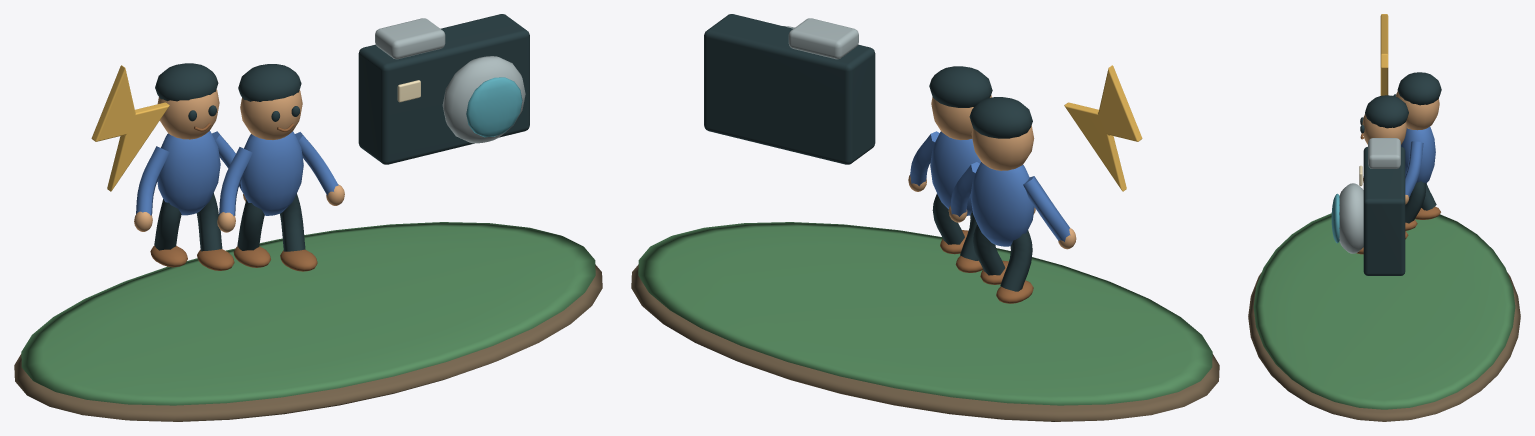
File: camera-light.glb
3 renders of one model, left to right at view 1: azimuth 30°, elevation 25°; view 2: azimuth 150°, elevation 25°; view 3: azimuth 270°, elevation 25°, orthographic. The views are drawn at different scales.
Visible parts, largest first — view 1: camera-light_surface_01, camera-light_surface_04, camera-light_surface_06, camera-light_surface_00, camera-light_surface_07, camera-light_surface_03, camera-light_surface_02, camera-light_surface_05, camera-light_surface_08; view 2: camera-light_surface_01, camera-light_surface_04, camera-light_surface_00, camera-light_surface_06, camera-light_surface_02, camera-light_surface_03, camera-light_surface_07, camera-light_surface_05; view 3: camera-light_surface_01, camera-light_surface_04, camera-light_surface_00, camera-light_surface_07, camera-light_surface_06, camera-light_surface_03, camera-light_surface_02, camera-light_surface_05, camera-light_surface_08.
Part boxes in pixels (x1=…): camera-light_surface_01: x1=21, y1=222, x2=595, y2=405; camera-light_surface_04: x1=154, y1=14, x2=529, y2=251; camera-light_surface_06: x1=136, y1=131, x2=338, y2=216; camera-light_surface_00: x1=14, y1=264, x2=602, y2=421; camera-light_surface_07: x1=375, y1=18, x2=525, y2=143; camera-light_surface_03: x1=134, y1=89, x2=344, y2=232; camera-light_surface_02: x1=91, y1=65, x2=169, y2=191; camera-light_surface_05: x1=150, y1=123, x2=317, y2=271; camera-light_surface_08: x1=466, y1=77, x2=522, y2=137; camera-light_surface_01: x1=638, y1=222, x2=1212, y2=405; camera-light_surface_04: x1=704, y1=14, x2=1032, y2=291; camera-light_surface_00: x1=631, y1=264, x2=1219, y2=421; camera-light_surface_06: x1=910, y1=131, x2=1070, y2=246; camera-light_surface_02: x1=1064, y1=65, x2=1142, y2=191; camera-light_surface_03: x1=908, y1=95, x2=1076, y2=249; camera-light_surface_07: x1=783, y1=18, x2=858, y2=59; camera-light_surface_05: x1=940, y1=230, x2=1033, y2=303; camera-light_surface_01: x1=1253, y1=213, x2=1515, y2=409; camera-light_surface_04: x1=1360, y1=72, x2=1441, y2=275; camera-light_surface_00: x1=1248, y1=272, x2=1520, y2=421; camera-light_surface_07: x1=1339, y1=138, x2=1400, y2=253; camera-light_surface_06: x1=1401, y1=126, x2=1435, y2=197; camera-light_surface_03: x1=1362, y1=91, x2=1439, y2=204; camera-light_surface_02: x1=1380, y1=14, x2=1388, y2=95; camera-light_surface_05: x1=1356, y1=133, x2=1440, y2=254; camera-light_surface_08: x1=1331, y1=193, x2=1339, y2=243.
Bounding box in the file's own units: 4.56 × 2.49 × 2.5.
